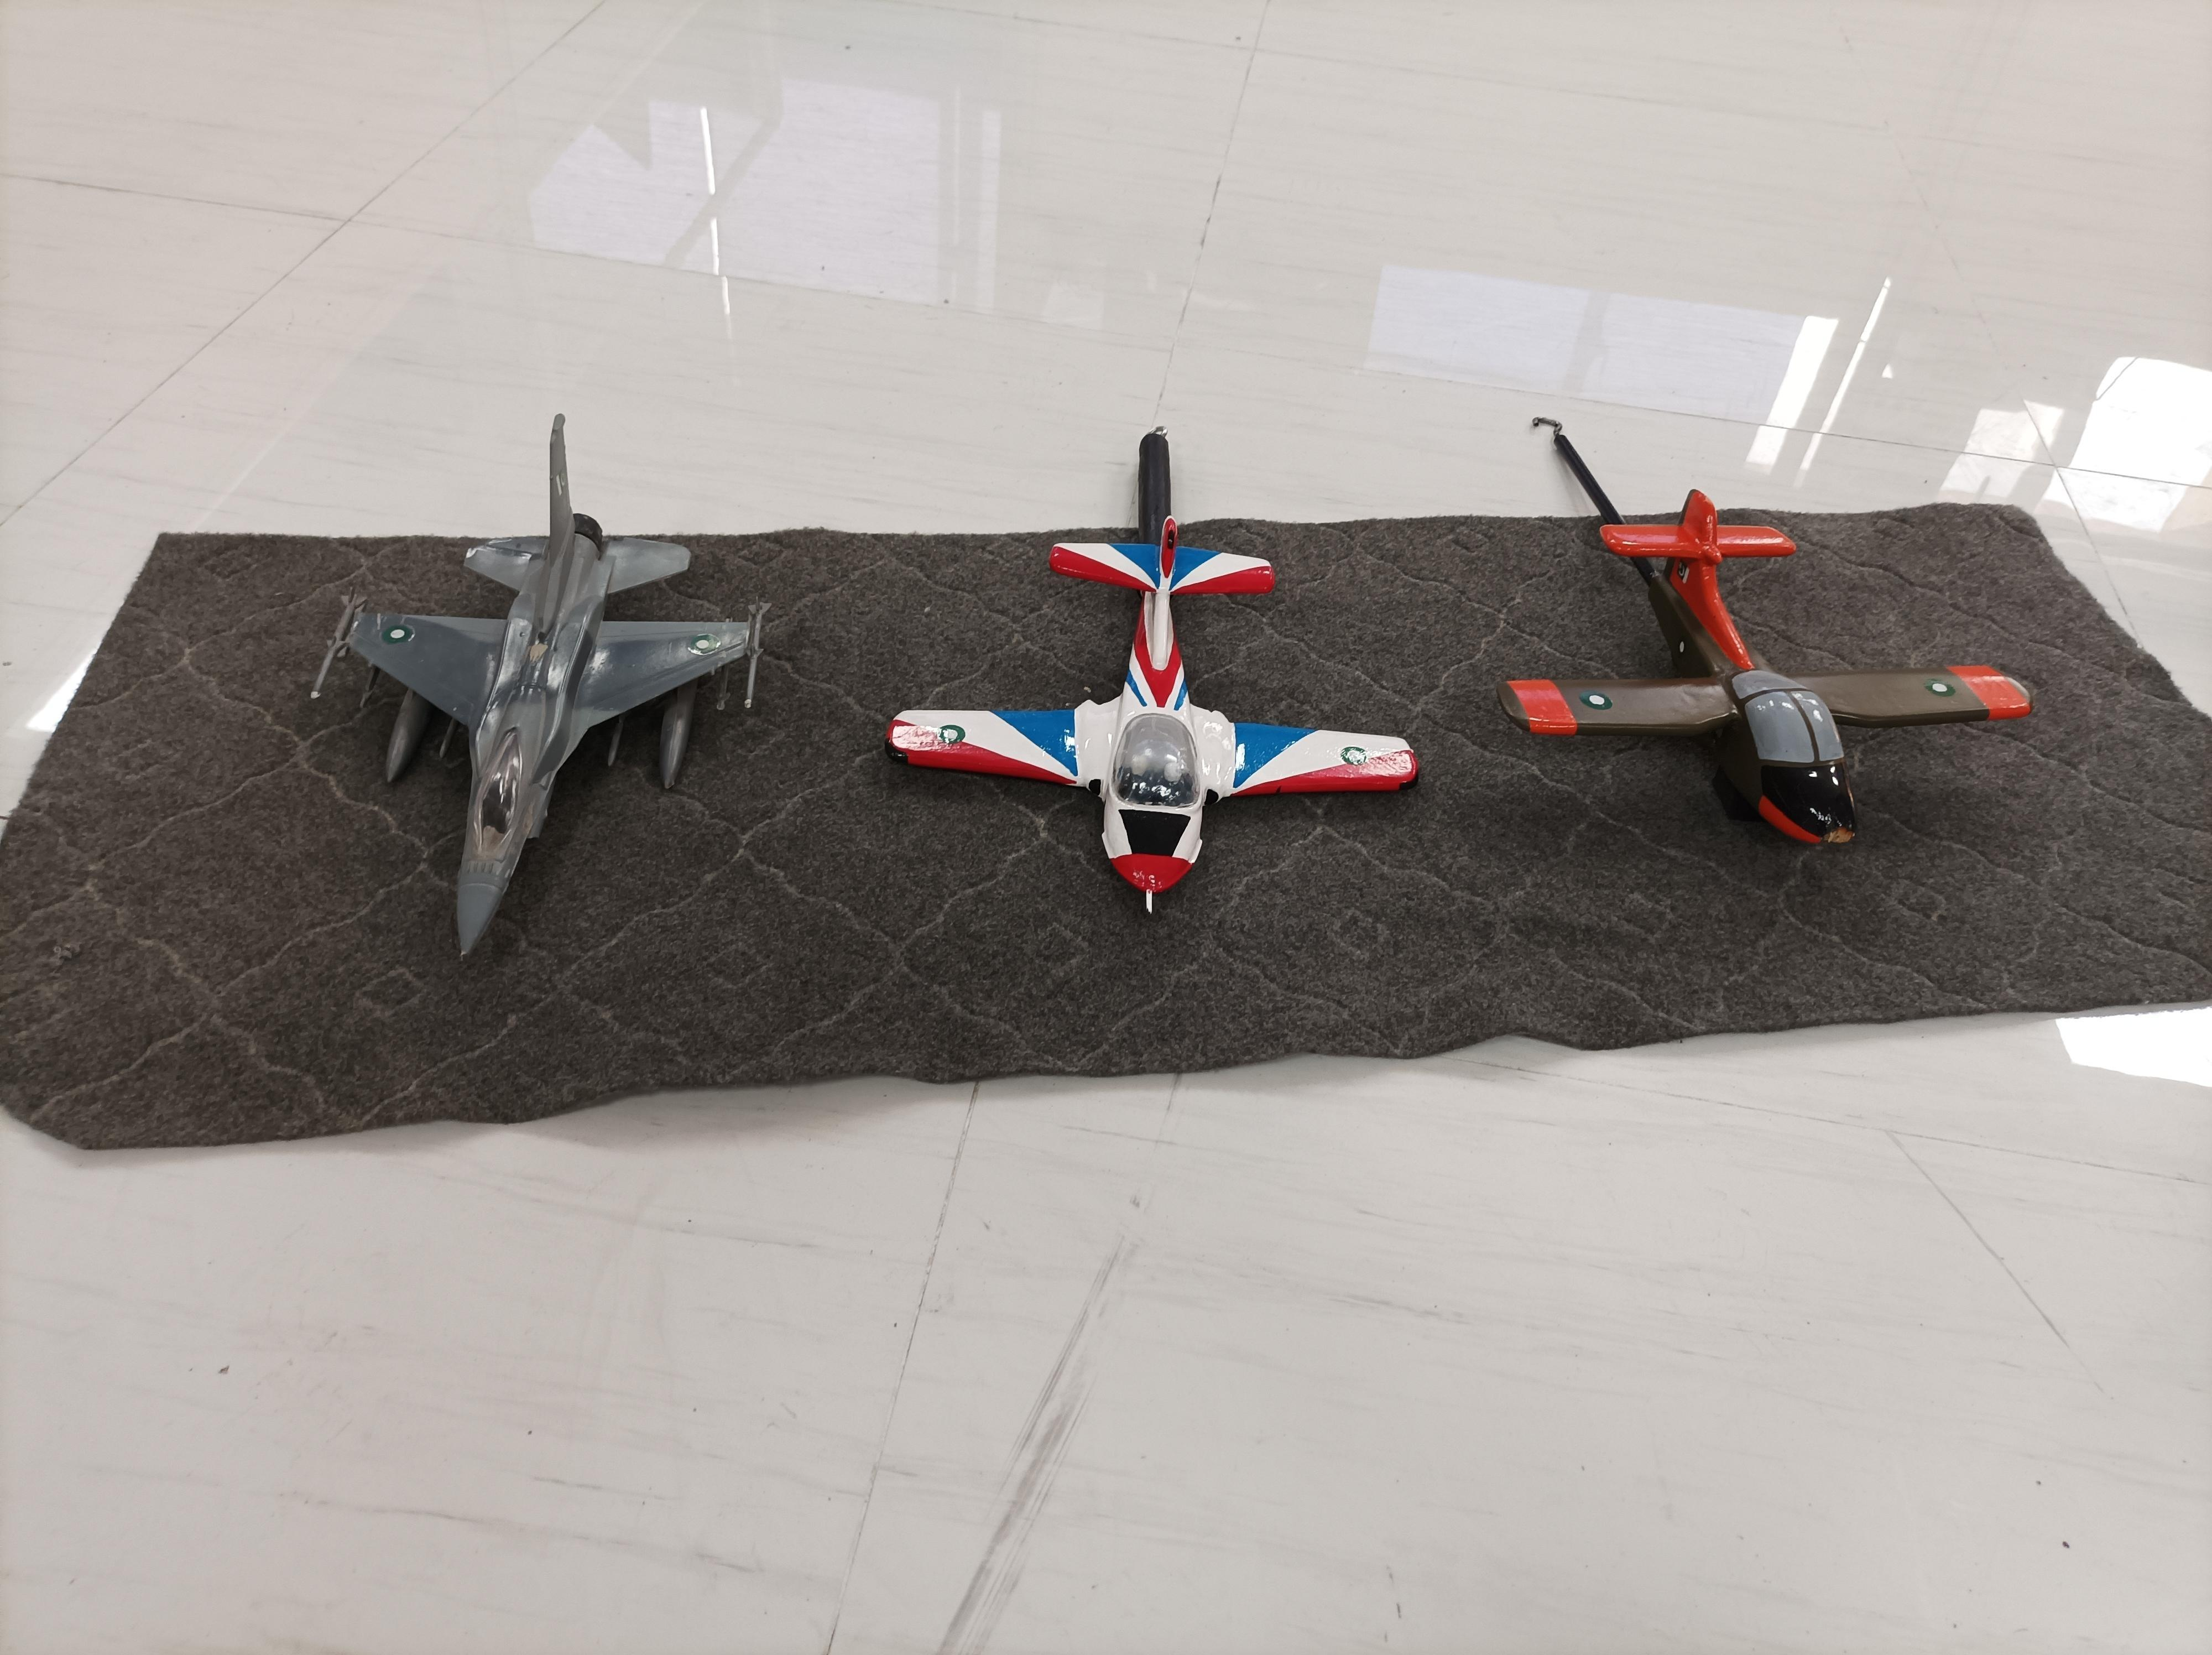Airplane: (855, 421, 1427, 956), (309, 393, 782, 977), (1498, 483, 2049, 894)
